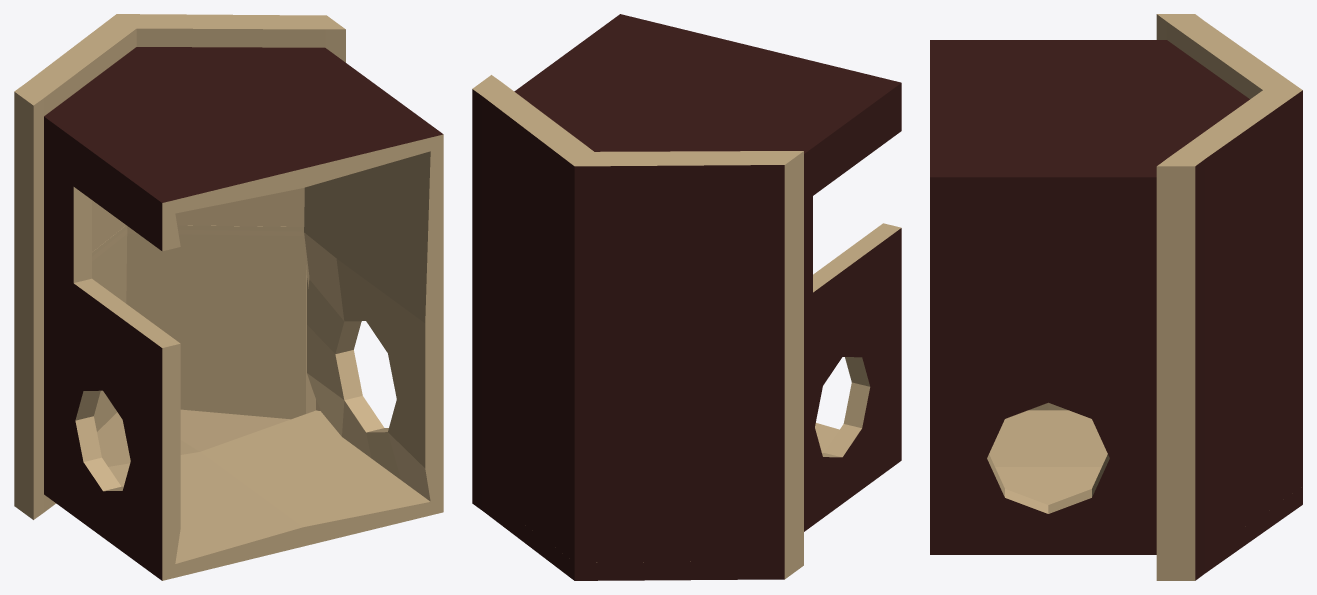
The model's file is WoodenHouse.fbx.
3 renders of one model, left to right at view 1: azimuth 30°, elevation 25°; view 2: azimuth 150°, elevation 25°; view 3: azimuth 270°, elevation 25°, orthographic.
Parts seen in each view (by area): view 1: Cube.004; view 2: Cube.004; view 3: Cube.004.
Part boxes in pixels (x1,y1,x2,y2): Cube.004: (14,14,443,580); Cube.004: (472,14,901,580); Cube.004: (930,14,1302,580).
Bounding box in the file's own units: 546 × 692 × 564.
